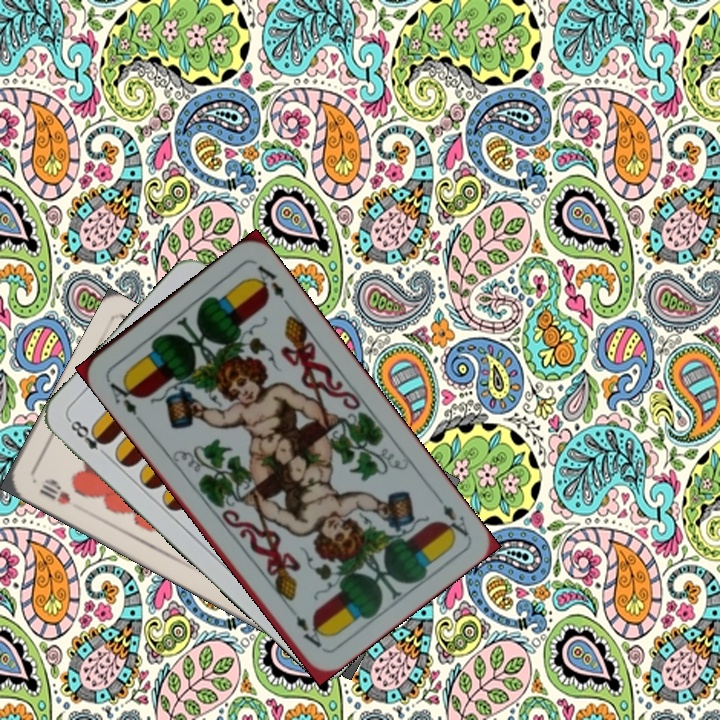E8: (64, 415, 112, 461)
EA: (430, 489, 472, 542), (102, 374, 141, 418)
H10: (35, 474, 73, 508)
